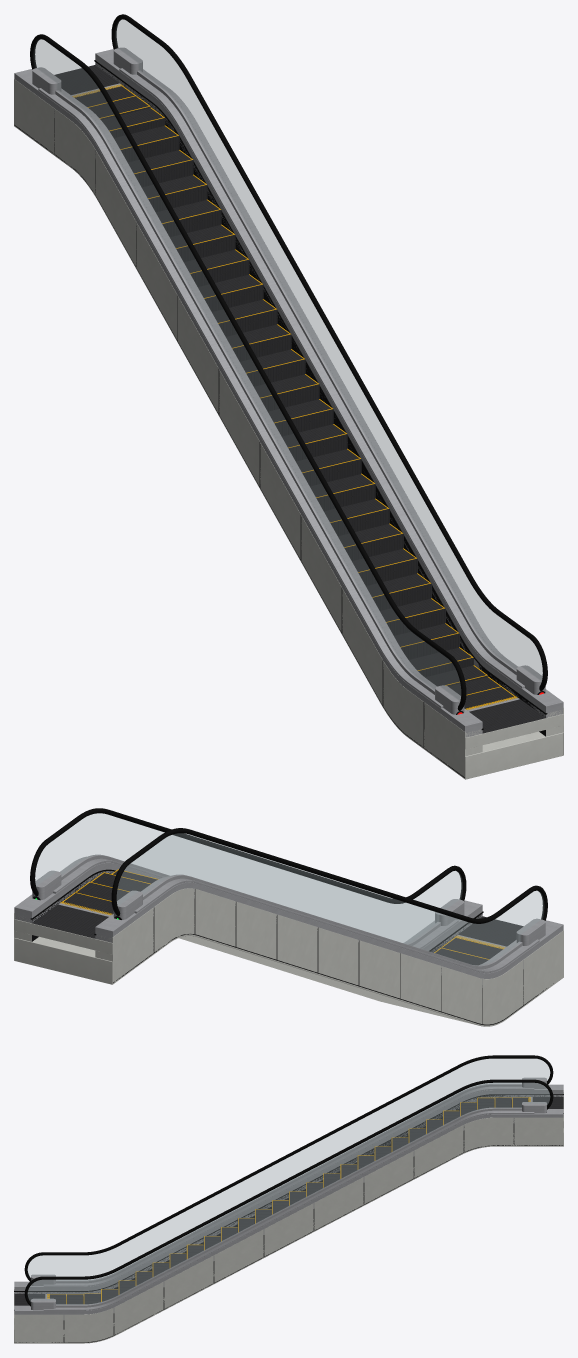
Rendered from gteki_escalator_s1000_r5000_down.glb.
3 renders of one model, top to bottom at view 1: azimuth 30°, elevation 25°; view 2: azimuth 150°, elevation 25°; view 3: azimuth 270°, elevation 25°, orthographic. The views are drawn at different scales.
Parts seen in each view (by area): view 1: VIS_steps, VIS_balustrades, VIS_truss_cladding, VIS_deck_boards, VIS_moving_handrails, VIS_skirts, VIS_balustrade_shoes, VIS_truss_soffit, VIS_landing_plates, VIS_truss_reveals, VIS_demarcation, VIS_newel_bases (+1 smaller); view 2: VIS_balustrades, VIS_truss_cladding, VIS_skirts, VIS_moving_handrails, VIS_truss_soffit, VIS_landing_plates, VIS_deck_boards, VIS_steps, VIS_balustrade_shoes, VIS_newel_bases, VIS_truss_reveals, VIS_comb_plates (+2 smaller); view 3: VIS_balustrades, VIS_truss_cladding, VIS_skirts, VIS_steps, VIS_moving_handrails, VIS_deck_boards, VIS_balustrade_shoes, VIS_truss_reveals, VIS_newel_bases, VIS_demarcation, VIS_truss_soffit, VIS_skirt_brushes (+1 smaller).
Boxes of the visible parts, x1,y1,x2,y2 form: VIS_steps: (75, 86, 513, 708); VIS_balustrades: (34, 19, 542, 700); VIS_truss_cladding: (14, 79, 563, 777); VIS_deck_boards: (38, 68, 524, 708); VIS_moving_handrails: (30, 14, 547, 710); VIS_skirts: (14, 49, 563, 737); VIS_balustrade_shoes: (55, 70, 516, 694); VIS_truss_soffit: (14, 124, 563, 779); VIS_landing_plates: (54, 65, 563, 749); VIS_truss_reveals: (14, 64, 562, 777); VIS_demarcation: (88, 86, 515, 709); VIS_newel_bases: (32, 47, 545, 714); VIS_balustrades: (35, 813, 543, 965); VIS_truss_cladding: (14, 888, 563, 1024); VIS_skirts: (14, 862, 563, 987); VIS_moving_handrails: (30, 808, 547, 923); VIS_truss_soffit: (14, 934, 563, 1026); VIS_landing_plates: (14, 903, 523, 954); VIS_deck_boards: (53, 856, 539, 973); VIS_steps: (64, 870, 502, 965); VIS_balustrade_shoes: (61, 854, 522, 969); VIS_newel_bases: (32, 870, 545, 945); VIS_truss_reveals: (15, 871, 553, 1025); VIS_comb_plates: (58, 901, 506, 948); VIS_balustrades: (28, 1059, 549, 1304); VIS_truss_cladding: (14, 1117, 563, 1342); VIS_skirts: (14, 1084, 563, 1319); VIS_steps: (50, 1097, 528, 1304); VIS_moving_handrails: (24, 1055, 553, 1306); VIS_deck_boards: (43, 1086, 534, 1310); VIS_balustrade_shoes: (56, 1083, 521, 1307); VIS_truss_reveals: (14, 1095, 562, 1342); VIS_newel_bases: (31, 1077, 546, 1310); VIS_demarcation: (50, 1097, 527, 1303); VIS_truss_soffit: (14, 1128, 563, 1343); VIS_skirt_brushes: (14, 1094, 563, 1310).
Size of what is drawn, in the model's own units: 1.61 by 6.63 by 12.66.
10 materials, 3 textured.
